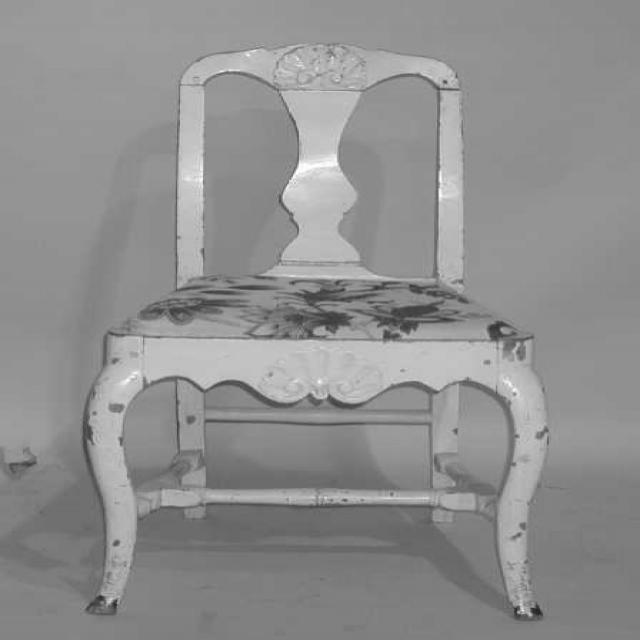chair: (78, 41, 552, 620)
